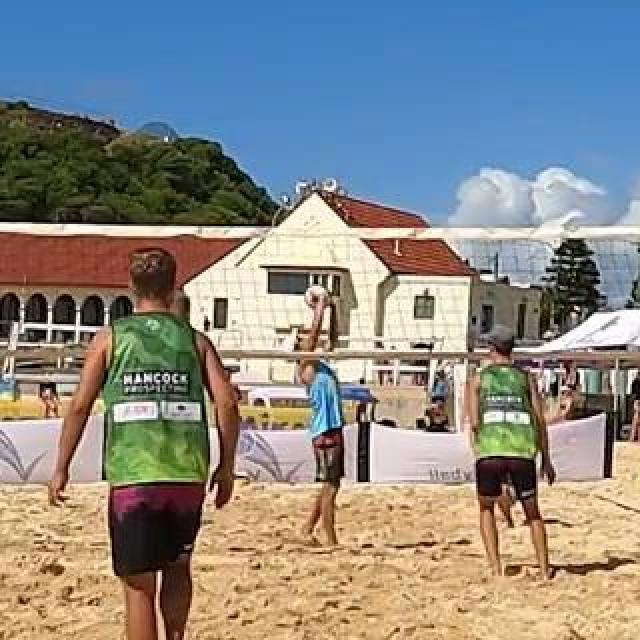volleyball: (305, 284, 331, 310)
